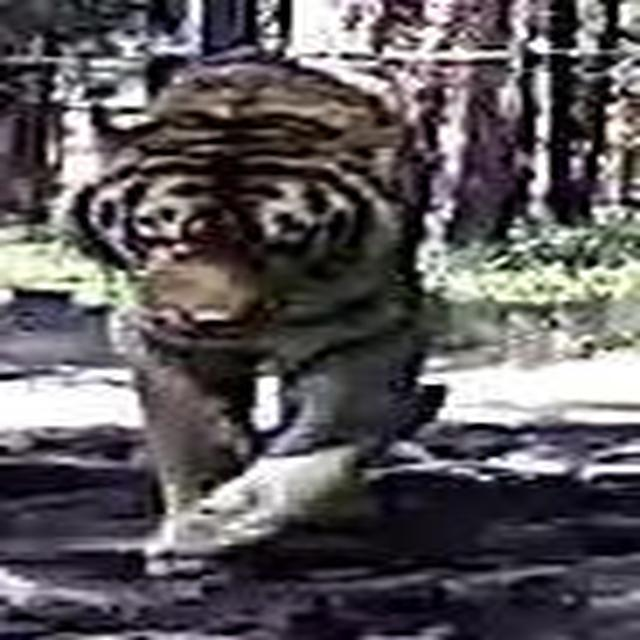tiger: (60, 44, 450, 559)
